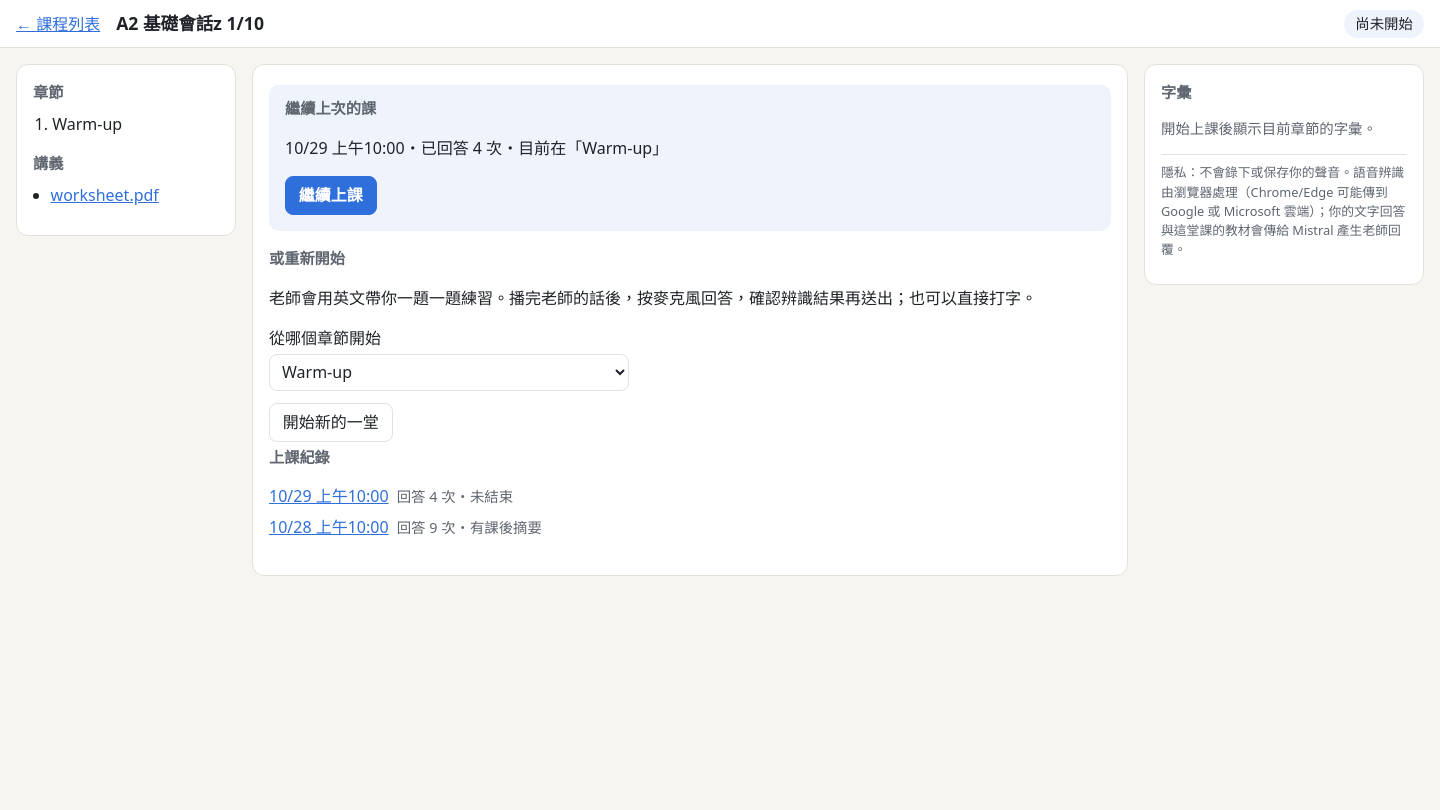
Test: classroom › continues an unfinished session where it stopped (FR-10, AT-12)
The image size is (1440, 810).
Expected: the text "已回答 4 次" shows "目前在「Warm-up」", top-left (285, 137), bottom-right (668, 159)
Click the button "繼續上課" at (331, 195), box top-left (285, 176), bottom-right (377, 215)
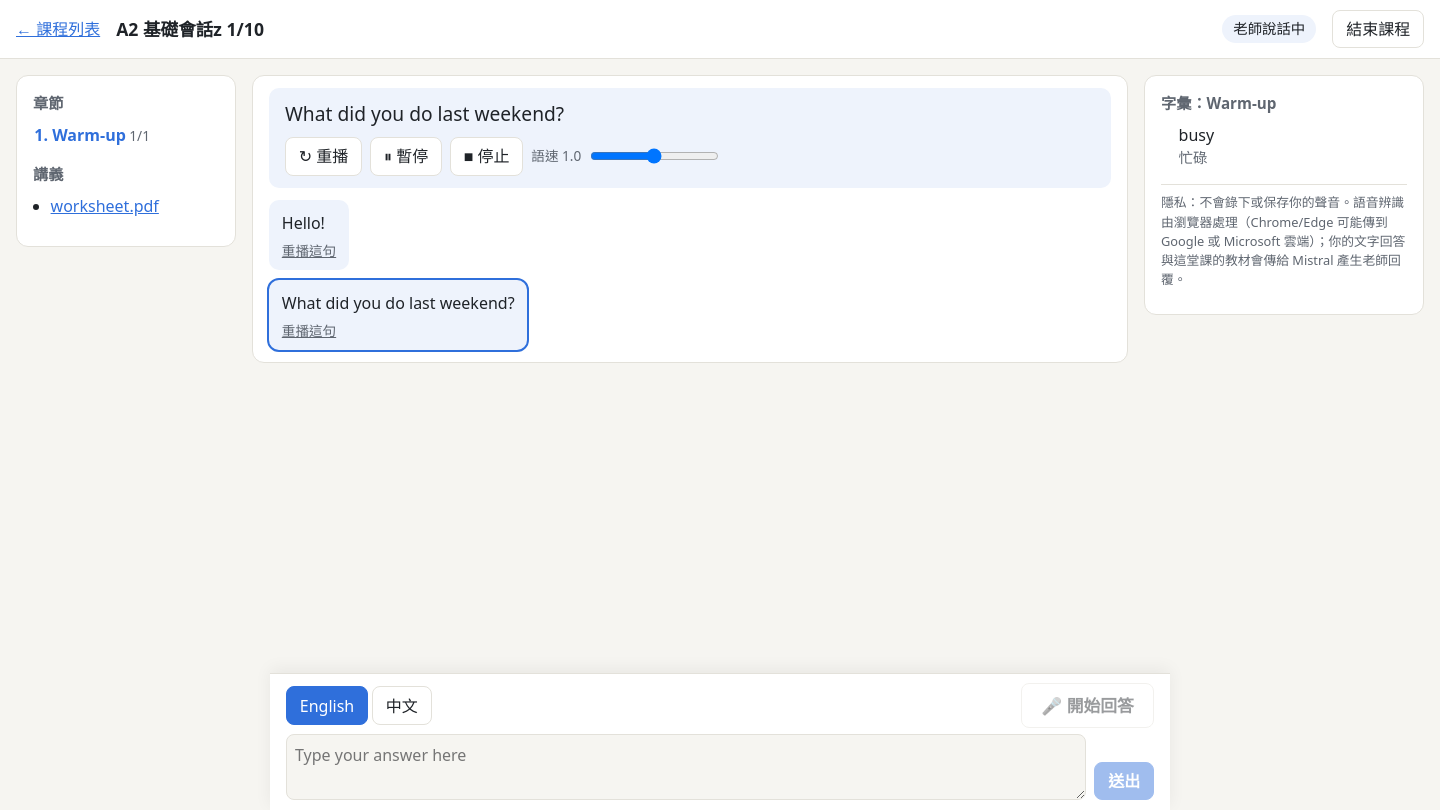
Expected: the 1st text "What did you do last weekend?" is shown, top-left (285, 100), bottom-right (564, 127)
